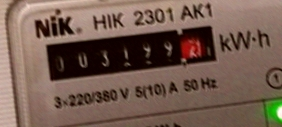0: (77, 49, 90, 69), (54, 52, 65, 71)
1: (120, 41, 131, 60)
3: (99, 46, 111, 67)
6: (187, 42, 198, 57)
9: (141, 38, 153, 59), (163, 38, 175, 57)
screen: (38, 15, 225, 87)
